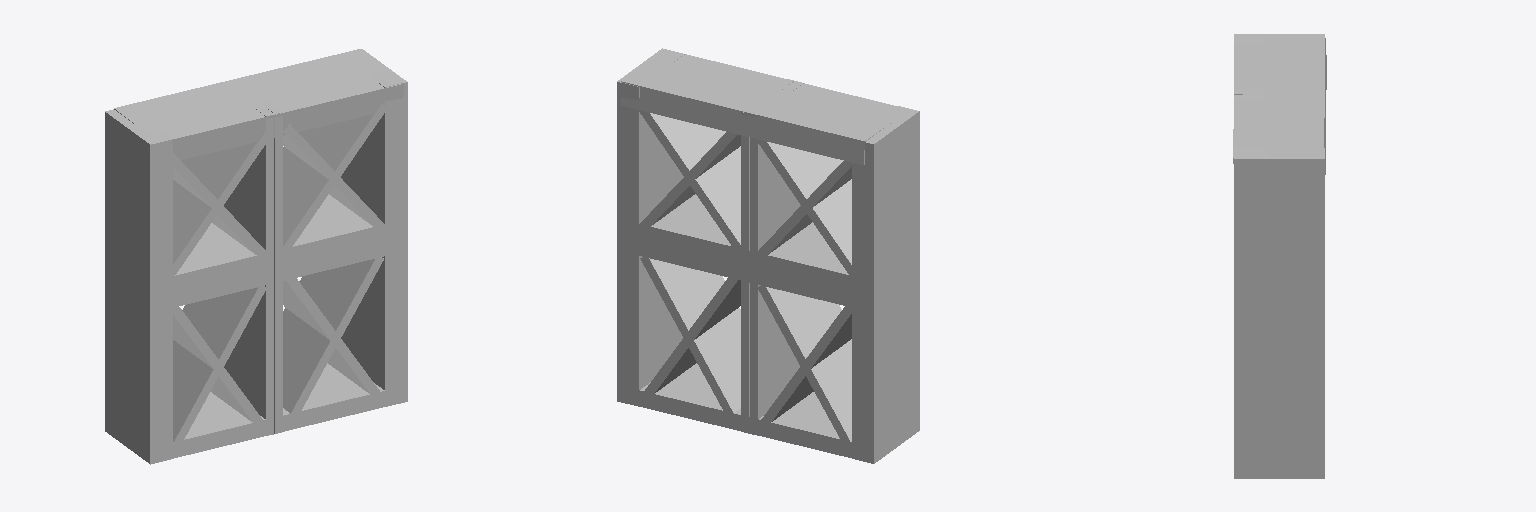
File: deur.obj
The picture shows the model from 3 angles: view 1: azimuth 30°, elevation 25°; view 2: azimuth 150°, elevation 25°; view 3: azimuth 270°, elevation 25°; orthographic projection.
Visible parts, largest first — view 1: Deur pCube2, pasted__pCube2 Deur, Deur pasted__pCube3, Deur pasted__pasted__pasted__pCube2, Deur pasted__pasted__pasted__pasted__pasted__pasted__pCube2, Deur pasted__pasted__pasted__pasted__pasted__pCube2, Deur pasted__pasted__pasted__pasted__pasted__pCube3, Deur pasted__pasted__pasted__pasted__pCube2, Deur pasted__pasted__pasted__pCube5, Deur pasted__pasted__pCube3, Deur pasted__pasted__pasted__pasted__pCube6, Deur pasted__pasted__pasted__pCube4 (+7 smaller); view 2: Deur pCube2, pasted__pCube2 Deur, Deur pasted__pCube3, Deur pasted__pasted__pasted__pCube2, Deur pasted__pasted__pasted__pasted__pasted__pasted__pCube2, Deur pasted__pasted__pasted__pasted__pasted__pCube2, Deur pasted__pasted__pasted__pasted__pasted__pCube3, Deur pasted__pasted__pasted__pasted__pCube2, Deur pasted__pasted__pCube3, Deur pasted__pasted__pasted__pCube5, Deur pasted__pasted__pasted__pasted__pCube6, Deur pasted__pasted__pasted__pCube4 (+7 smaller); view 3: Deur pasted__pCube3, pasted__pCube2 Deur, Deur pCube2.
Boxes of the visible parts, x1,y1,x2,y2 form: Deur pCube2: [105, 109, 172, 464]; pasted__pCube2 Deur: [114, 49, 403, 159]; Deur pasted__pCube3: [341, 49, 407, 406]; Deur pasted__pasted__pasted__pCube2: [224, 103, 273, 435]; Deur pasted__pasted__pasted__pasted__pasted__pasted__pCube2: [283, 257, 383, 414]; Deur pasted__pasted__pasted__pasted__pasted__pCube2: [168, 286, 265, 455]; Deur pasted__pasted__pasted__pasted__pasted__pCube3: [283, 104, 384, 252]; Deur pasted__pasted__pasted__pasted__pCube2: [164, 132, 268, 277]; Deur pasted__pasted__pasted__pCube5: [274, 194, 384, 266]; Deur pasted__pasted__pCube3: [158, 223, 269, 295]; Deur pasted__pasted__pasted__pasted__pCube6: [274, 363, 386, 433]; Deur pasted__pasted__pasted__pCube4: [158, 392, 269, 461]; Deur pCube2: [852, 106, 919, 463]; pasted__pCube2 Deur: [621, 54, 895, 164]; Deur pasted__pCube3: [617, 48, 684, 406]; Deur pasted__pasted__pasted__pCube2: [750, 81, 803, 435]; Deur pasted__pasted__pasted__pasted__pasted__pasted__pCube2: [640, 256, 740, 414]; Deur pasted__pasted__pasted__pasted__pasted__pCube2: [757, 284, 855, 454]; Deur pasted__pasted__pasted__pasted__pasted__pCube3: [639, 110, 740, 251]; Deur pasted__pasted__pasted__pasted__pCube2: [756, 139, 859, 280]; Deur pasted__pasted__pCube3: [755, 222, 866, 294]; Deur pasted__pasted__pasted__pCube5: [638, 194, 749, 266]; Deur pasted__pasted__pasted__pasted__pCube6: [639, 363, 749, 433]; Deur pasted__pasted__pasted__pCube4: [755, 392, 866, 461]; Deur pasted__pCube3: [1234, 148, 1324, 478]; pasted__pCube2 Deur: [1233, 37, 1326, 174]; Deur pCube2: [1234, 34, 1324, 44].
Size of the model in its own units: 0.735 by 0.8755 by 0.2318.